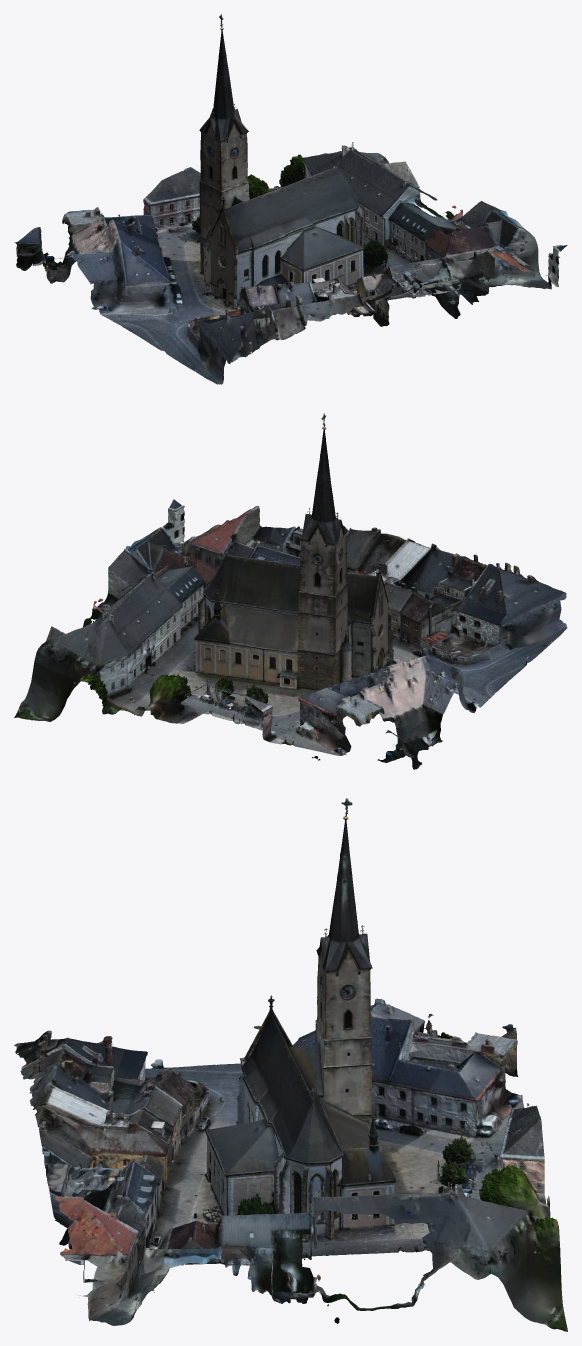
The model's file is kostel-ar.glb.
3 views of the same model, one above another, from view 1: azimuth 30°, elevation 25°; view 2: azimuth 150°, elevation 25°; view 3: azimuth 270°, elevation 25° (orthographic). The views are drawn at different scales.
Size of the model in its own units: 111 by 78.27 by 99.1.
1 material, 1 textured.
